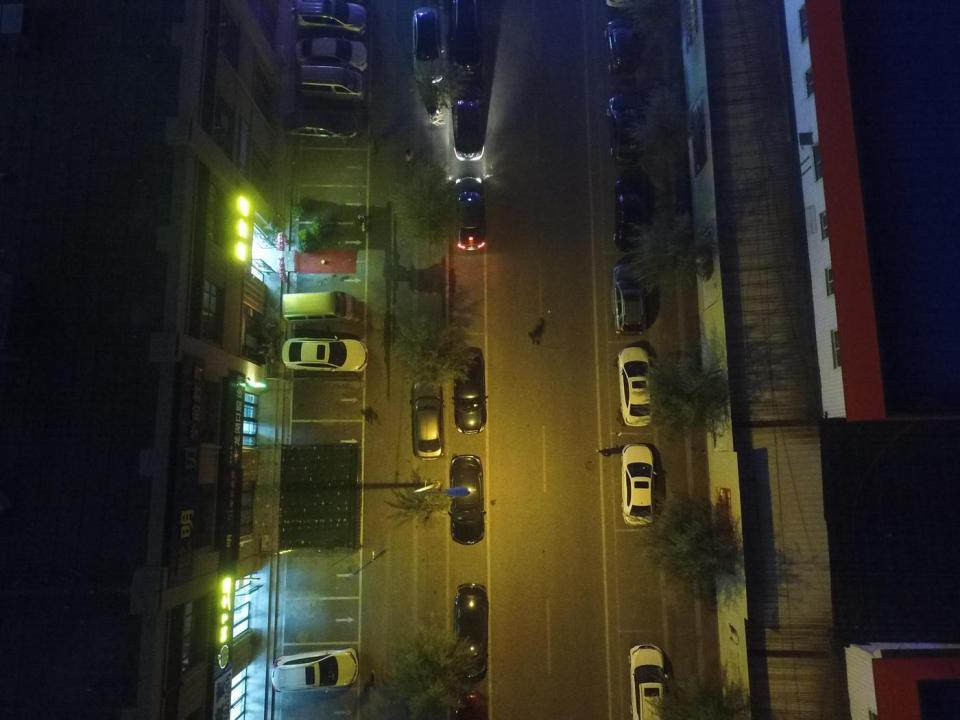car: (270, 648, 358, 692), (447, 455, 487, 545), (452, 584, 488, 678), (282, 335, 367, 372), (628, 644, 668, 720), (621, 444, 657, 526), (616, 347, 652, 426), (452, 353, 487, 434), (450, 79, 484, 160), (409, 381, 443, 460), (284, 108, 357, 143), (411, 8, 445, 83), (296, 37, 368, 71), (607, 94, 641, 164), (613, 179, 645, 252), (454, 177, 486, 250), (604, 19, 637, 74), (448, 690, 488, 719)
van: (290, 1, 366, 36), (611, 263, 647, 336), (300, 66, 365, 103), (450, 0, 482, 73), (282, 292, 354, 322)
